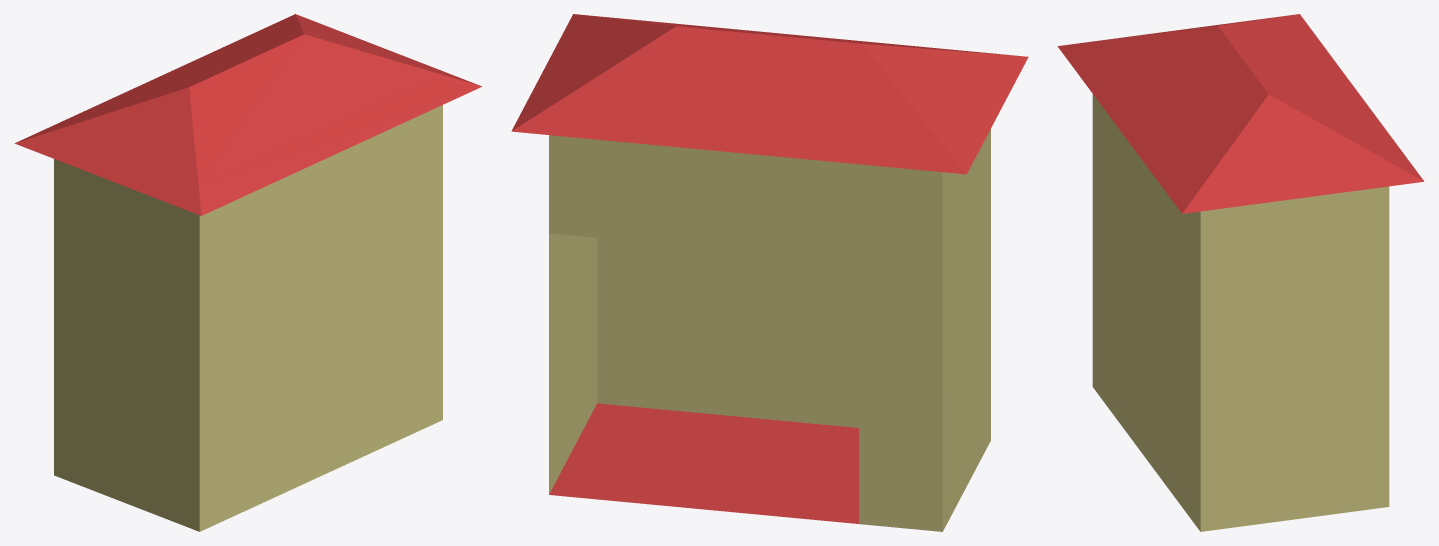
3 renders of one model, left to right at view 1: azimuth 30°, elevation 25°; view 2: azimuth 150°, elevation 25°; view 3: azimuth 270°, elevation 25°, orthographic. The views are drawn at different scales.
Bounding box in the file's own units: 16.8 × 13.04 × 15.14.
